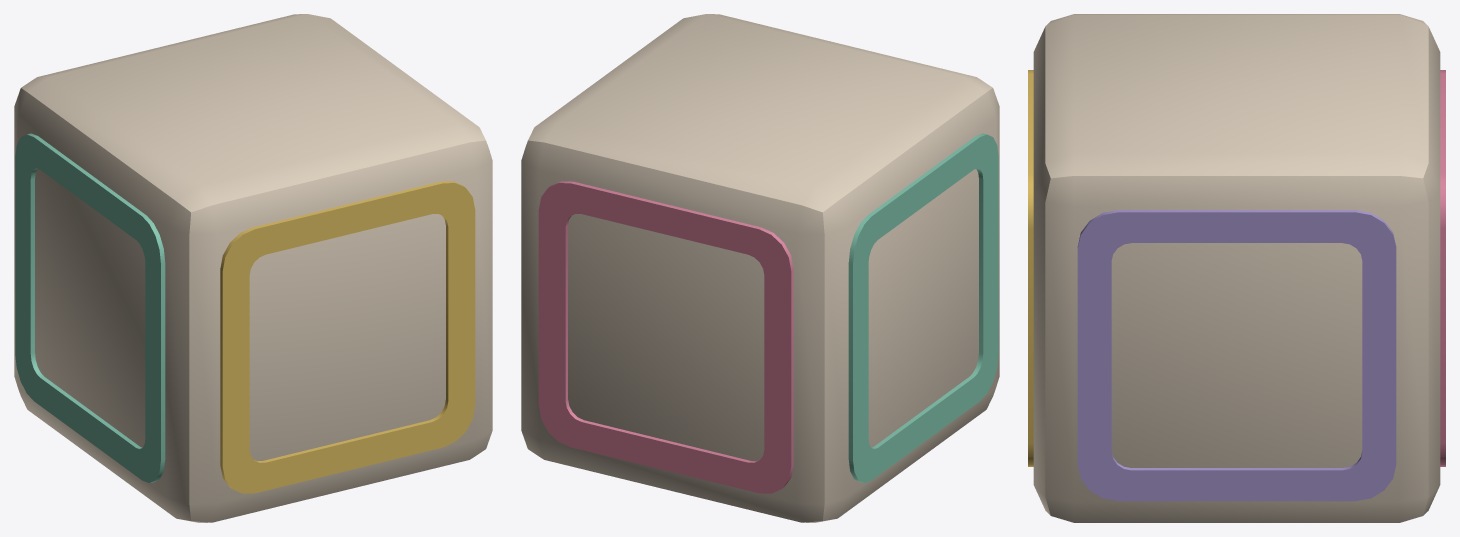
The model's file is Title_Block.fbx.
The picture shows the model from 3 angles, left to right: view 1: azimuth 30°, elevation 25°; view 2: azimuth 150°, elevation 25°; view 3: azimuth 270°, elevation 25°; orthographic projection. The views are drawn at different scales.
Visible parts, largest first — view 1: Title_Block; view 2: Title_Block; view 3: Title_Block.
Boxes of the visible parts, x1,y1,x2,y2 form: Title_Block: (14,14,492,522); Title_Block: (521,14,999,522); Title_Block: (1028,14,1445,522).
Size of the model in its own units: 0.1232 by 0.12 by 0.1232.
